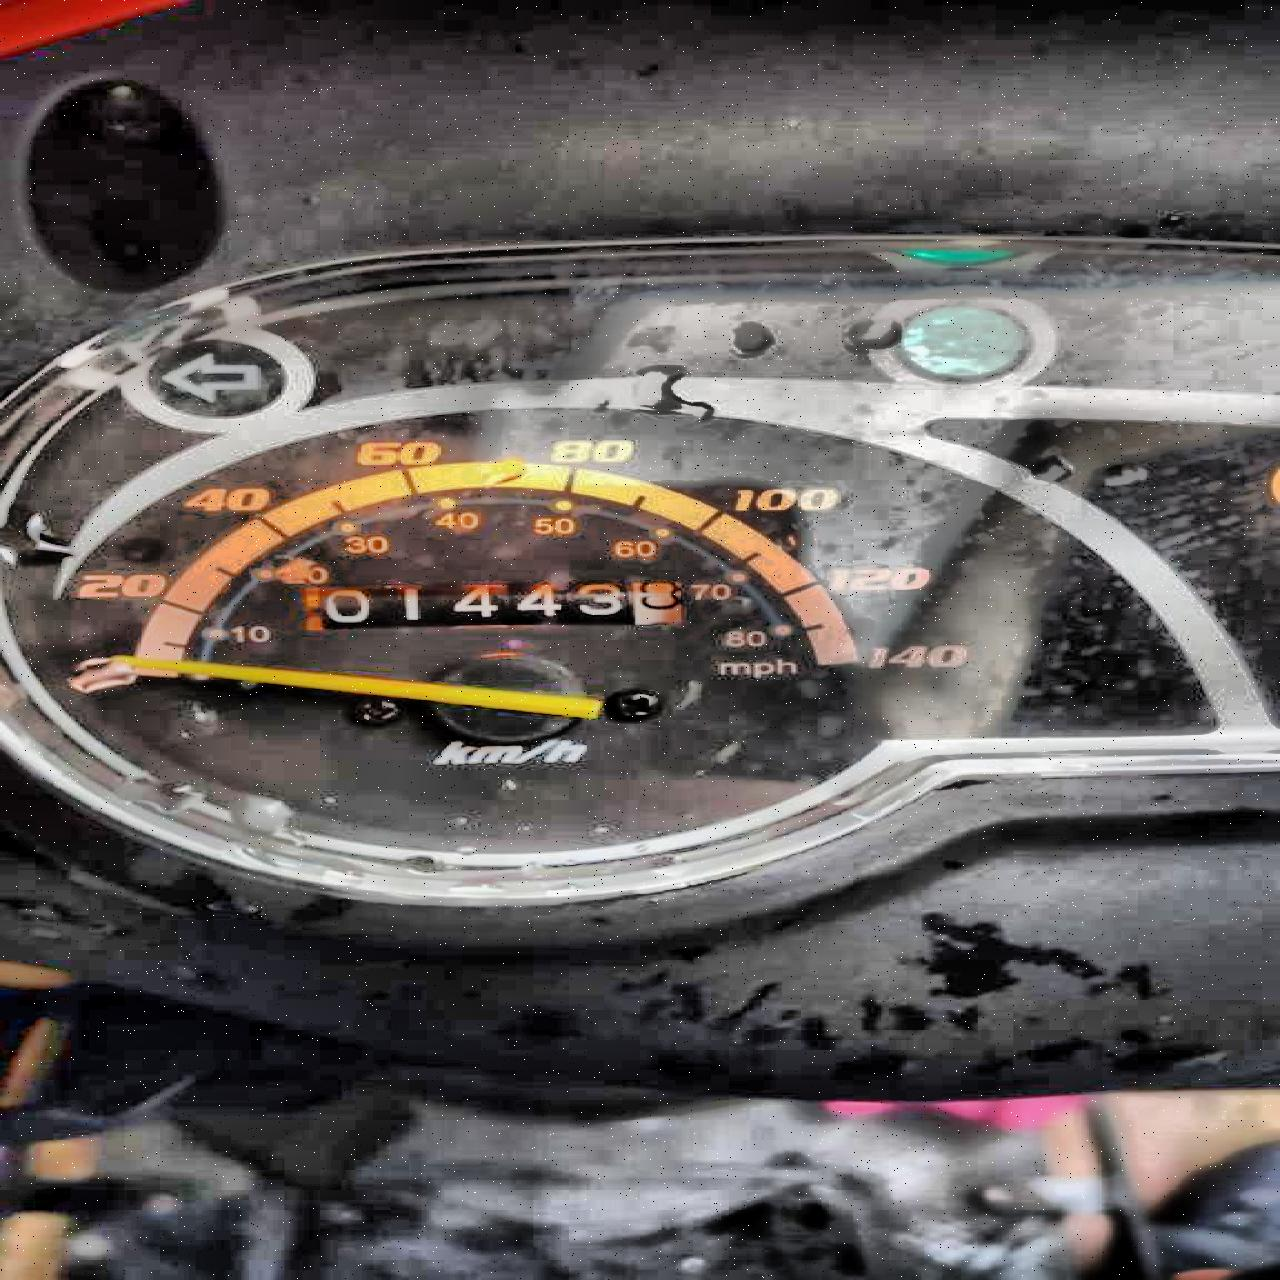0: (322, 587, 369, 622)
1: (395, 585, 424, 621)
3: (571, 581, 622, 617)
4: (447, 583, 501, 619), (509, 581, 563, 618)
8: (635, 579, 680, 610)
odometer: (291, 576, 692, 633)
